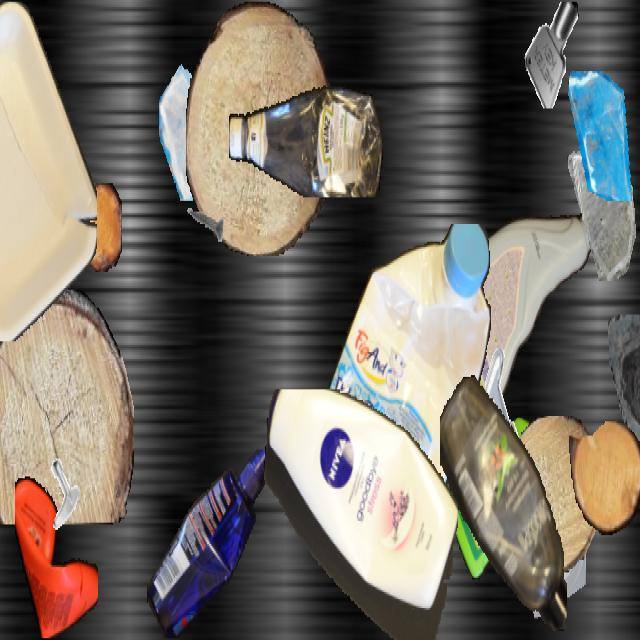glass: (159, 51, 243, 201), (565, 149, 639, 281), (565, 71, 637, 199), (327, 354, 389, 464), (605, 314, 640, 482), (529, 517, 585, 617)
metal: (473, 345, 535, 455), (523, 2, 583, 108), (39, 455, 83, 533), (184, 188, 224, 260), (0, 261, 25, 343)
plastic: (308, 224, 494, 590), (262, 390, 458, 638), (420, 203, 594, 430), (440, 372, 566, 638), (0, 2, 96, 340), (146, 450, 276, 638), (229, 76, 383, 198), (446, 416, 556, 580), (15, 471, 97, 638)
wood: (186, 2, 330, 254), (0, 290, 133, 524), (503, 416, 601, 572), (569, 421, 640, 535), (0, 166, 54, 300), (79, 183, 121, 272)
